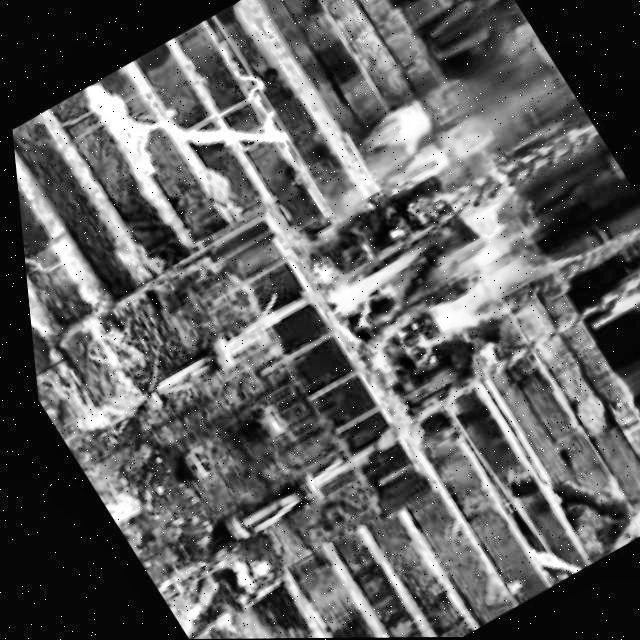Fire: (292, 159, 575, 381)
